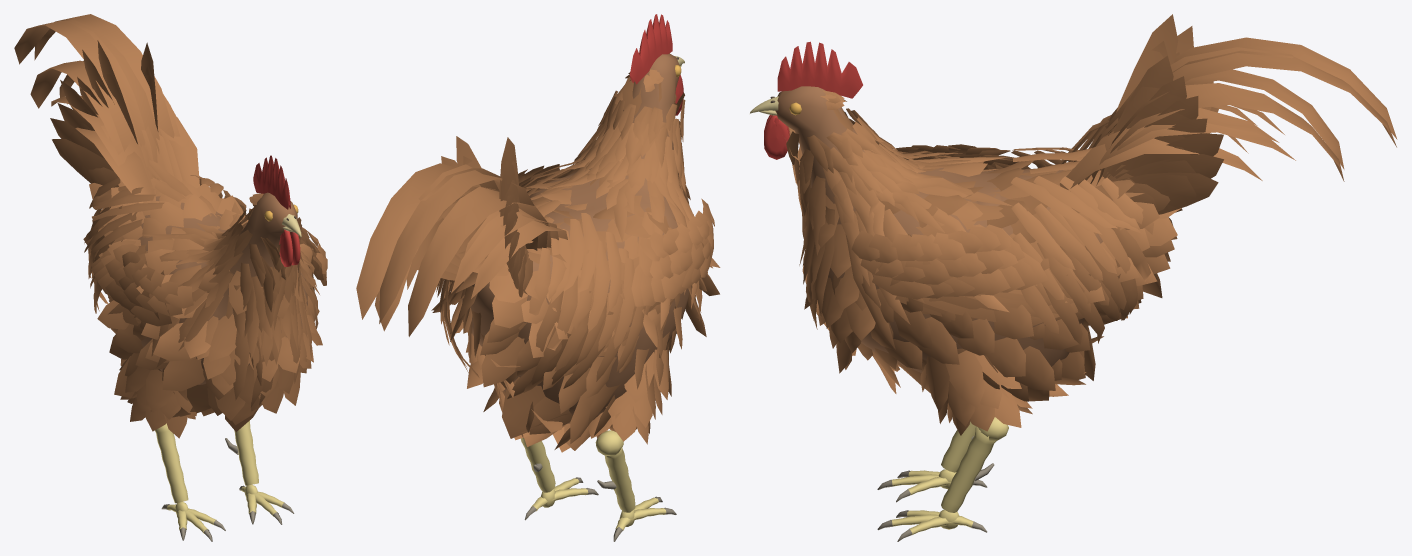
Rendered from chicken.glb.
The picture shows the model from 3 angles, left to right: view 1: azimuth 30°, elevation 25°; view 2: azimuth 150°, elevation 25°; view 3: azimuth 270°, elevation 25°; orthographic projection. The views are drawn at different scales.
Visible parts, largest first — view 1: feathers, tail__r, hackle__r, hackle__h, wing_r, saddle__r, body, thigh_r, tail__h, shank_r, comb__r, shank_l (+4 smaller); view 2: feathers, tail__r, saddle__r, hackle__r, body, wing_r, hackle__h, thigh_r, shank_r, comb__r, tail__h, shank_l (+3 smaller); view 3: feathers, tail__r, saddle__r, wing_l, hackle__r, hackle__h, body, thigh_l, tail__h, comb__r, shank_l, wing_r (+4 smaller).
Part boxes in pixels (box(x1,y1,x2,y2)): feathers: box(83, 179, 322, 431); tail__r: box(14, 14, 199, 203); hackle__r: box(108, 177, 319, 407); hackle__h: box(111, 178, 317, 366); wing_r: box(91, 240, 193, 326); saddle__r: box(84, 160, 251, 313); body: box(138, 192, 307, 384); thigh_r: box(119, 359, 196, 438); tail__h: box(65, 65, 158, 187); shank_r: box(155, 423, 188, 503); comb__r: box(253, 155, 290, 209); shank_l: box(234, 420, 258, 485); feathers: box(431, 69, 720, 452); tail__r: box(356, 136, 567, 336); saddle__r: box(436, 200, 645, 392); hackle__r: box(448, 85, 707, 337); body: box(462, 53, 691, 423); wing_r: box(601, 198, 714, 351); hackle__h: box(523, 90, 699, 309); thigh_r: box(588, 344, 671, 444); shank_r: box(595, 430, 635, 512); comb__r: box(629, 14, 672, 84); tail__h: box(419, 156, 532, 296); shank_l: box(521, 437, 555, 492); feathers: box(802, 90, 1182, 414); tail__r: box(1059, 14, 1397, 214); saddle__r: box(1011, 147, 1153, 344); wing_l: box(851, 224, 1077, 325); hackle__r: box(786, 108, 1116, 349); hackle__h: box(786, 108, 1085, 308); body: box(775, 86, 1113, 387); thigh_l: box(920, 350, 1032, 435); tail__h: box(1100, 41, 1196, 214); comb__r: box(777, 41, 862, 98); shank_l: box(941, 417, 1008, 512); wing_r: box(896, 144, 1014, 169).
Size of the model in its own units: 0.2804 by 0.5836 by 0.711.
